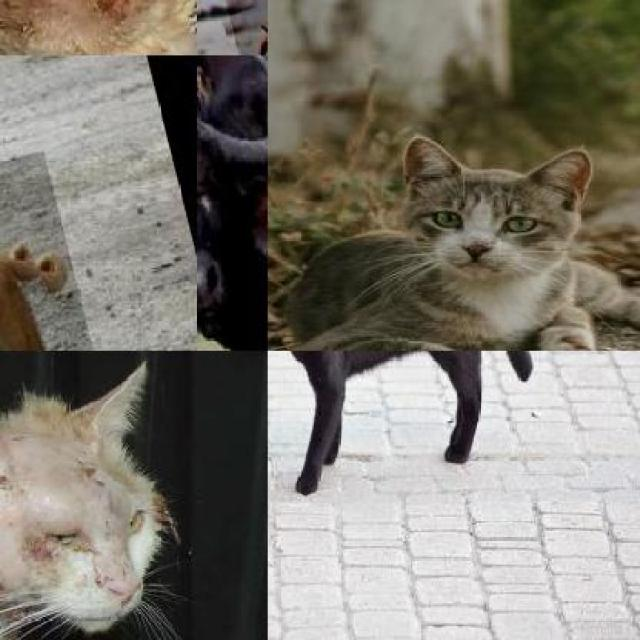buffalo: (197, 55, 268, 351)
cat: (311, 149, 640, 351), (0, 415, 183, 640), (268, 351, 529, 489)
dog: (0, 151, 143, 351)
injured: (46, 0, 193, 55)
